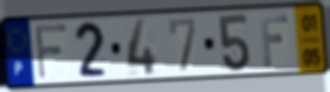2: (72, 20, 112, 82)
4: (124, 17, 161, 78)
5: (216, 11, 252, 74)
7: (165, 17, 198, 75)
F: (33, 21, 70, 82), (258, 12, 290, 69)
